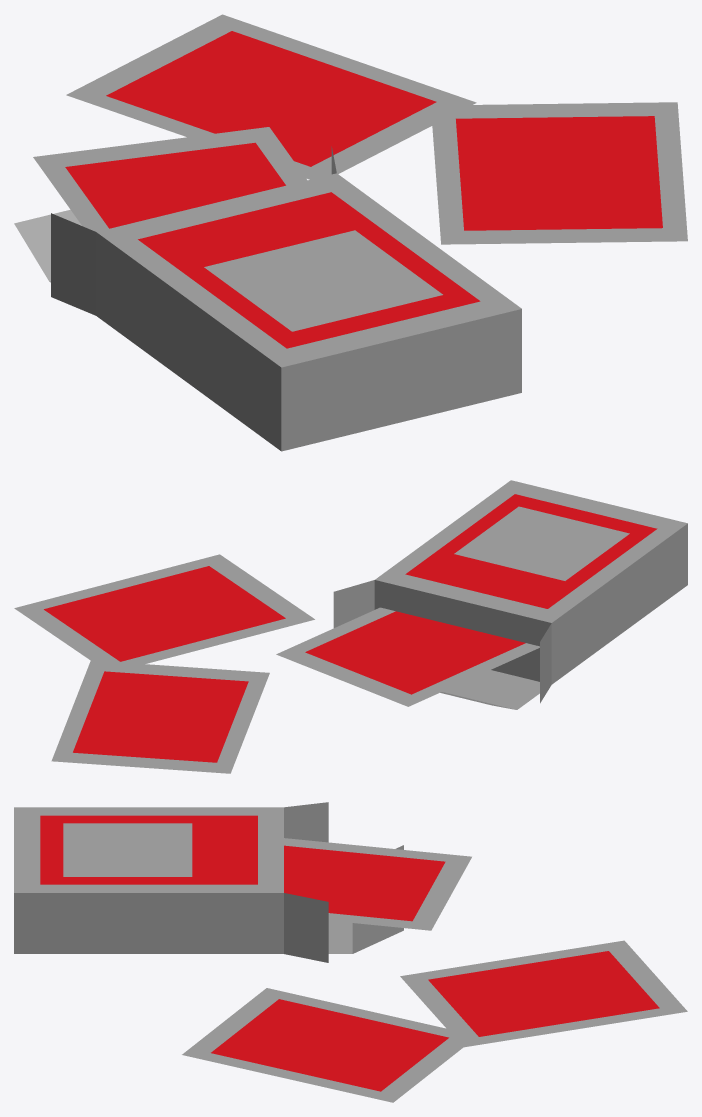
File: Cards.fbx
The picture shows the model from 3 angles, top to bottom: view 1: azimuth 30°, elevation 25°; view 2: azimuth 150°, elevation 25°; view 3: azimuth 270°, elevation 25°; orthographic projection. The views are drawn at different scales.
Visible parts, largest first — view 1: cards; view 2: cards; view 3: cards.
Part boxes in pixels (x1,y1,x2,y2): cards: (14,14,687,451); cards: (14,480,687,773); cards: (14,802,687,1102).
Bounding box in the file's own units: 194 × 23.51 × 231.
